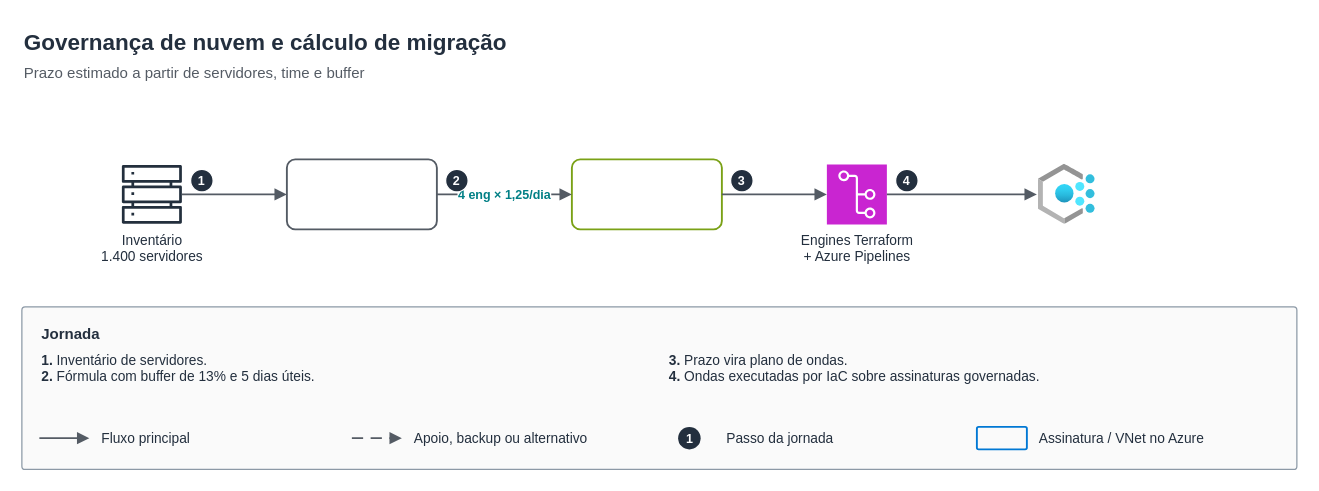
This 1319x491 diagram has some shape labels left out. Here are the shapes that lost their labels. From the top down, the centre of each, then its label:
the point at 361,194: Duração = servidores ÷ (eng × serv/dia) × buffer
the point at 646,194: ~63 semanas ~14,5 meses
the point at 1066,194: Assinaturas governadas
